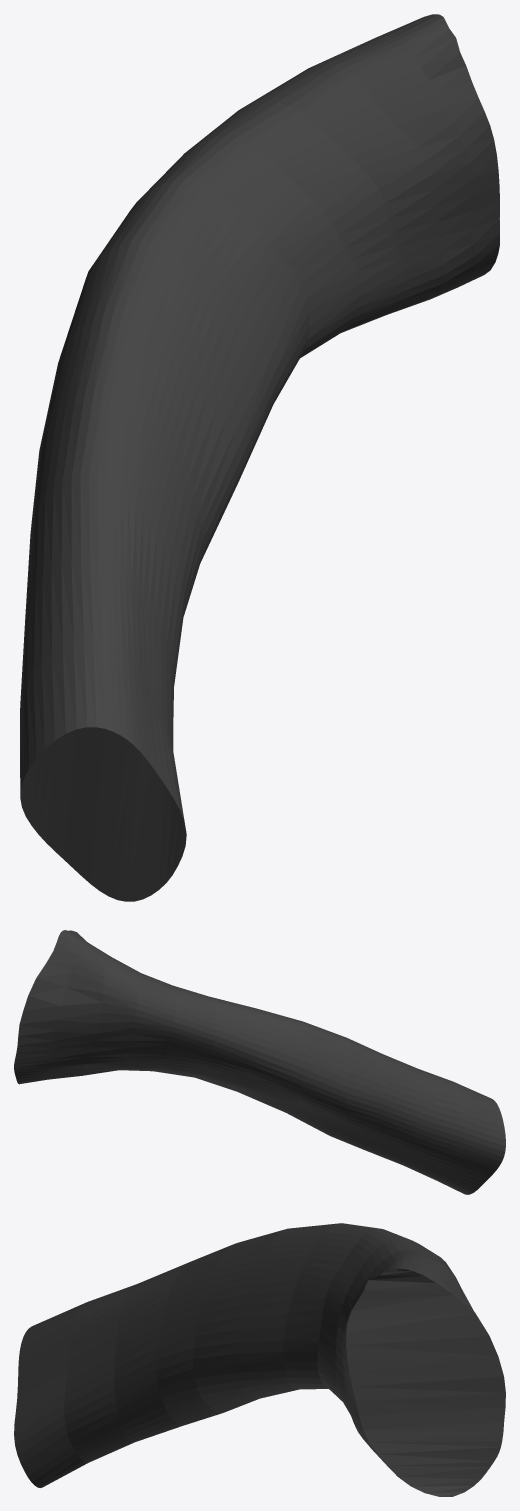
File: N_5_trigeminus.glb
3 views of the same model, one above another, from view 1: azimuth 30°, elevation 25°; view 2: azimuth 150°, elevation 25°; view 3: azimuth 270°, elevation 25° (orthographic). The views are drawn at different scales.
Parts seen in each view (by area): view 1: N_5_trigeminus; view 2: N_5_trigeminus; view 3: N_5_trigeminus.
Part boxes in pixels (x1,y1,x2,y2): N_5_trigeminus: (20, 14, 499, 901); N_5_trigeminus: (14, 930, 505, 1194); N_5_trigeminus: (14, 1223, 505, 1496).
Size of the model in its own units: 0.00521 by 0.00403 by 0.00432.
1 material, 1 textured.
